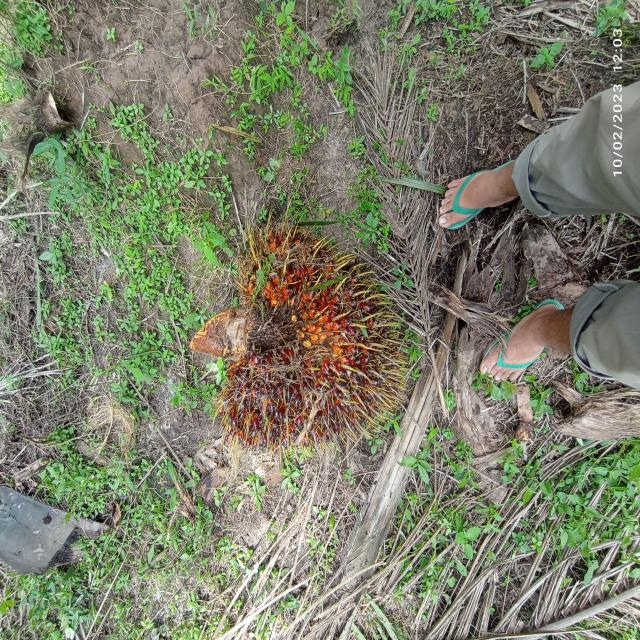fraksi 1: (172, 207, 430, 466)
